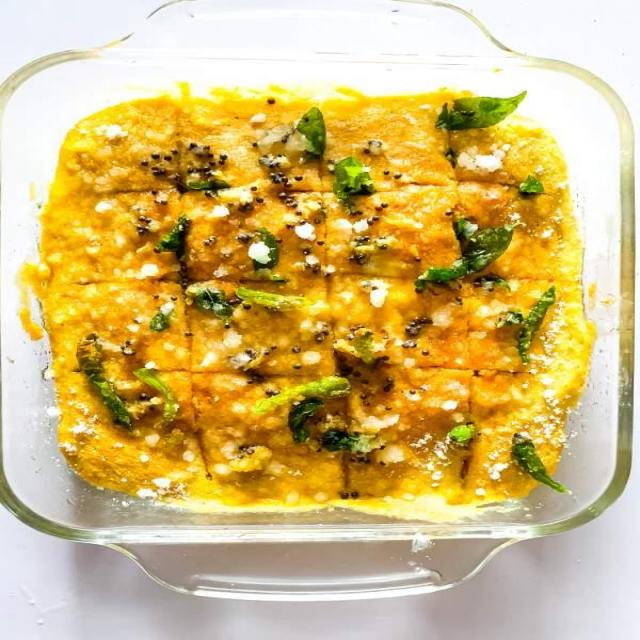dhokla: (51, 96, 587, 516)
